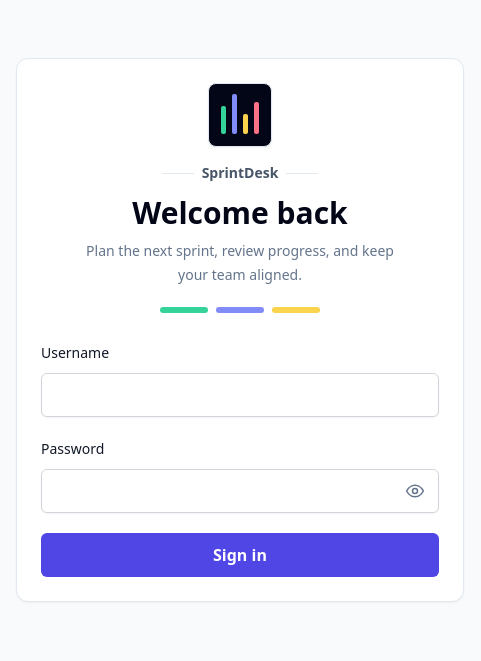
LoginForm › shows an authentication error and clears it when the user edits a field
Type "emilys" into the field labelled "Username". click: (240, 395)
box: top-left (41, 373), bottom-right (439, 417)
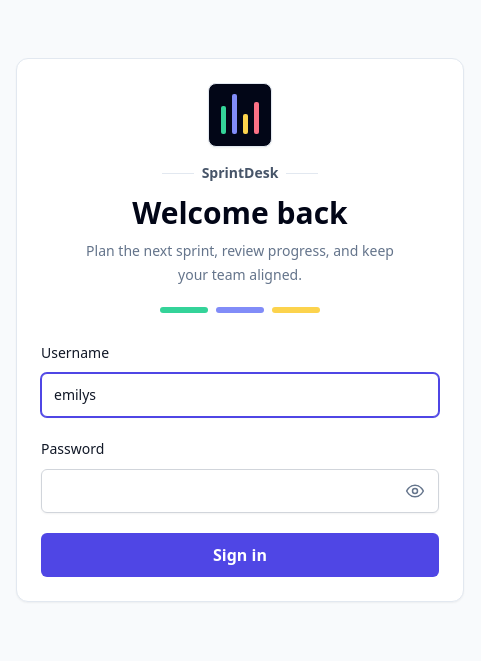
Type "wrongpass" into the password field labelled "Password". click: (240, 491)
box: top-left (41, 469), bottom-right (439, 513)
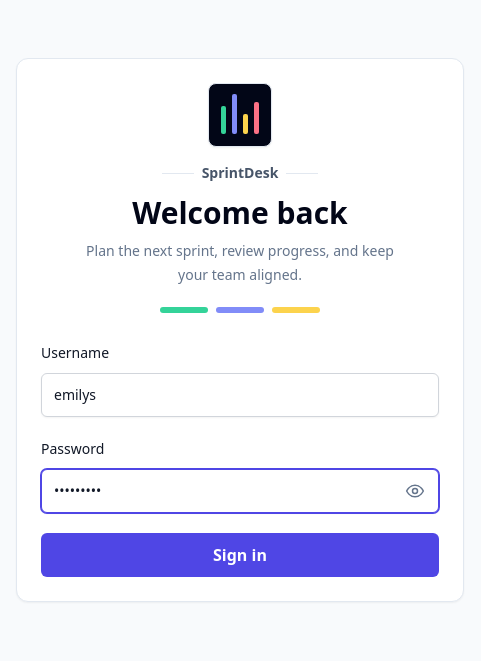
Click the button "Sign in". click: click(240, 555)
box: top-left (41, 533), bottom-right (439, 577)
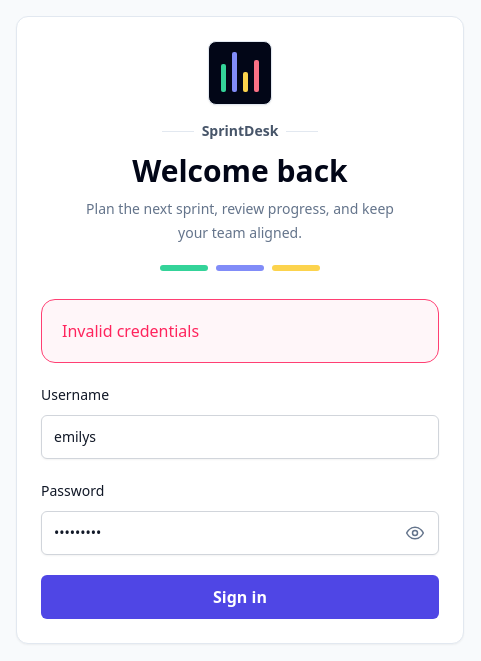
Check: the message reads "Invalid credentials", box top-left (62, 320), bottom-right (199, 342)
Type "1" into the field labelled "Username". click: (240, 437)
box: top-left (41, 415), bottom-right (439, 459)
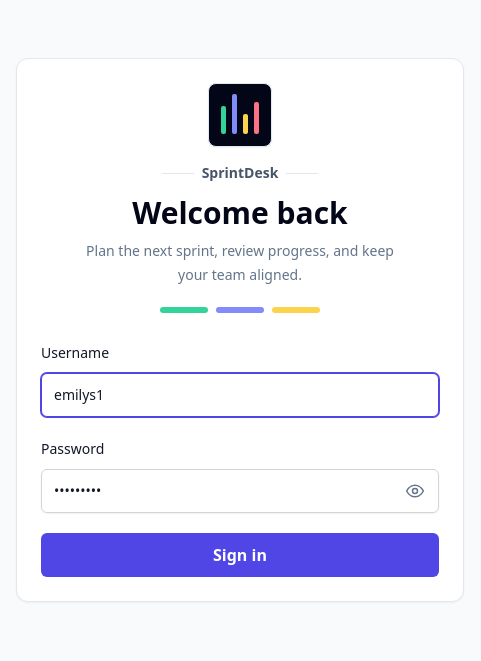
Check: the text "Invalid credentials" is gone
